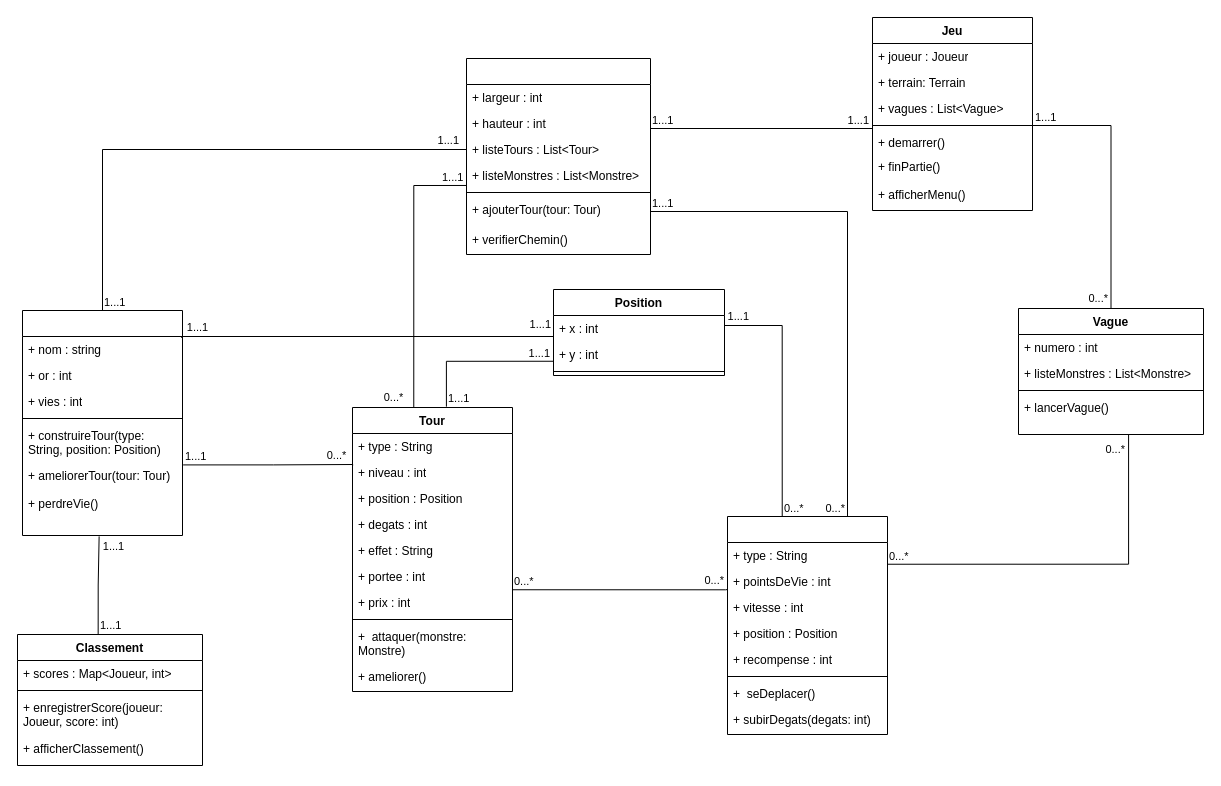
This 1221x786 diagram has some shape labels left out. Here are the shapes that lost their labels. From the top down, the box of each, then its label:
(466, 58, 650, 254): Terrain
(22, 310, 182, 536): Joueur
(726, 516, 888, 734): Monstre
